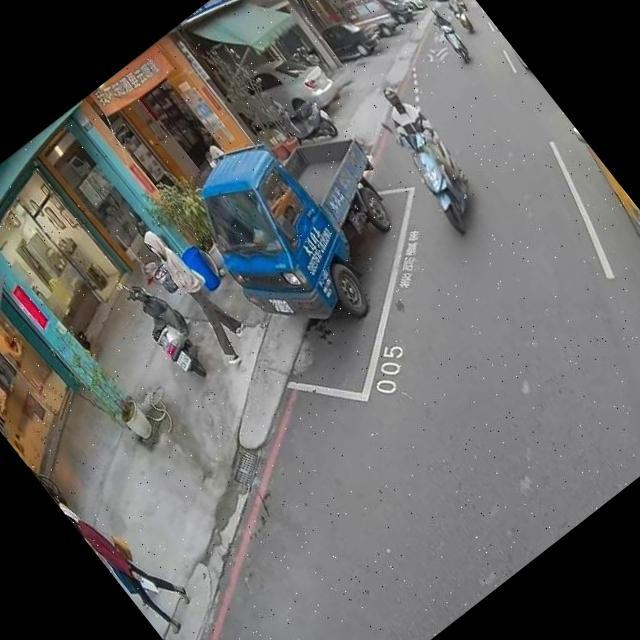person: (56, 471, 203, 640), (31, 452, 168, 616), (124, 210, 261, 369), (364, 76, 478, 206), (424, 2, 452, 33), (198, 146, 221, 172), (438, 0, 466, 18), (206, 140, 227, 162)
